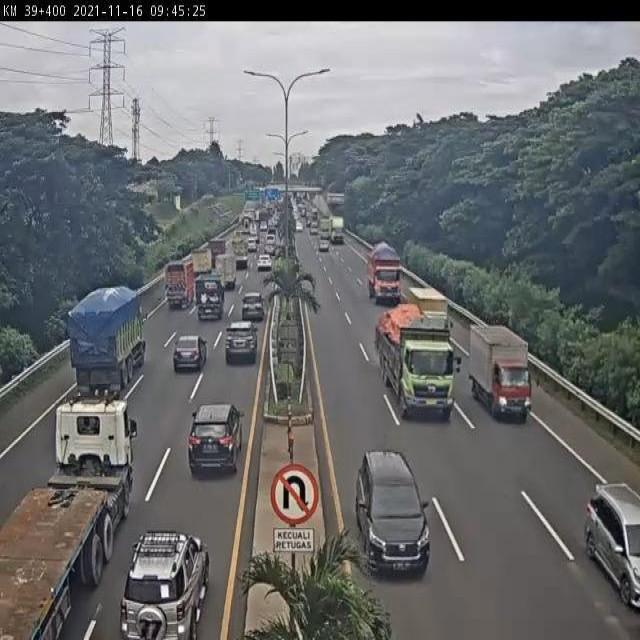car: (357, 450, 432, 578), (121, 532, 207, 640), (587, 477, 640, 611), (188, 404, 243, 481), (171, 333, 207, 375), (225, 320, 258, 364), (242, 292, 264, 320)
truck: (0, 397, 139, 640), (370, 301, 459, 424), (72, 287, 151, 392), (467, 319, 537, 423), (368, 243, 404, 304), (166, 259, 194, 307), (198, 272, 225, 320)
